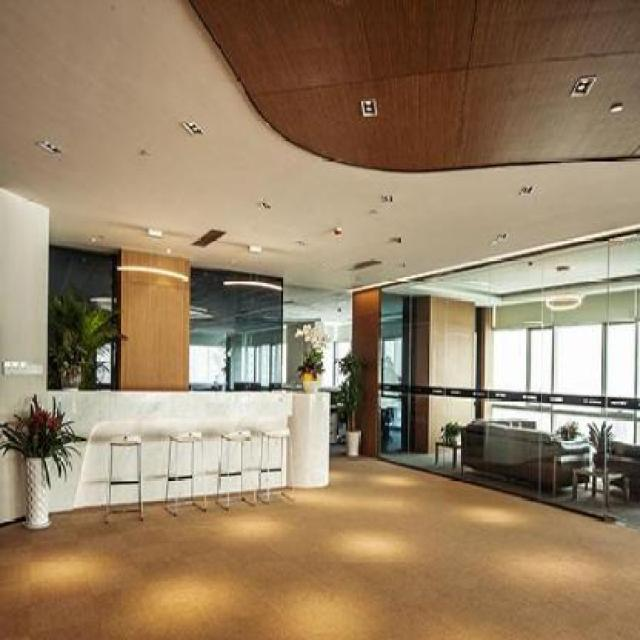frontdesk: (16, 366, 342, 527)
